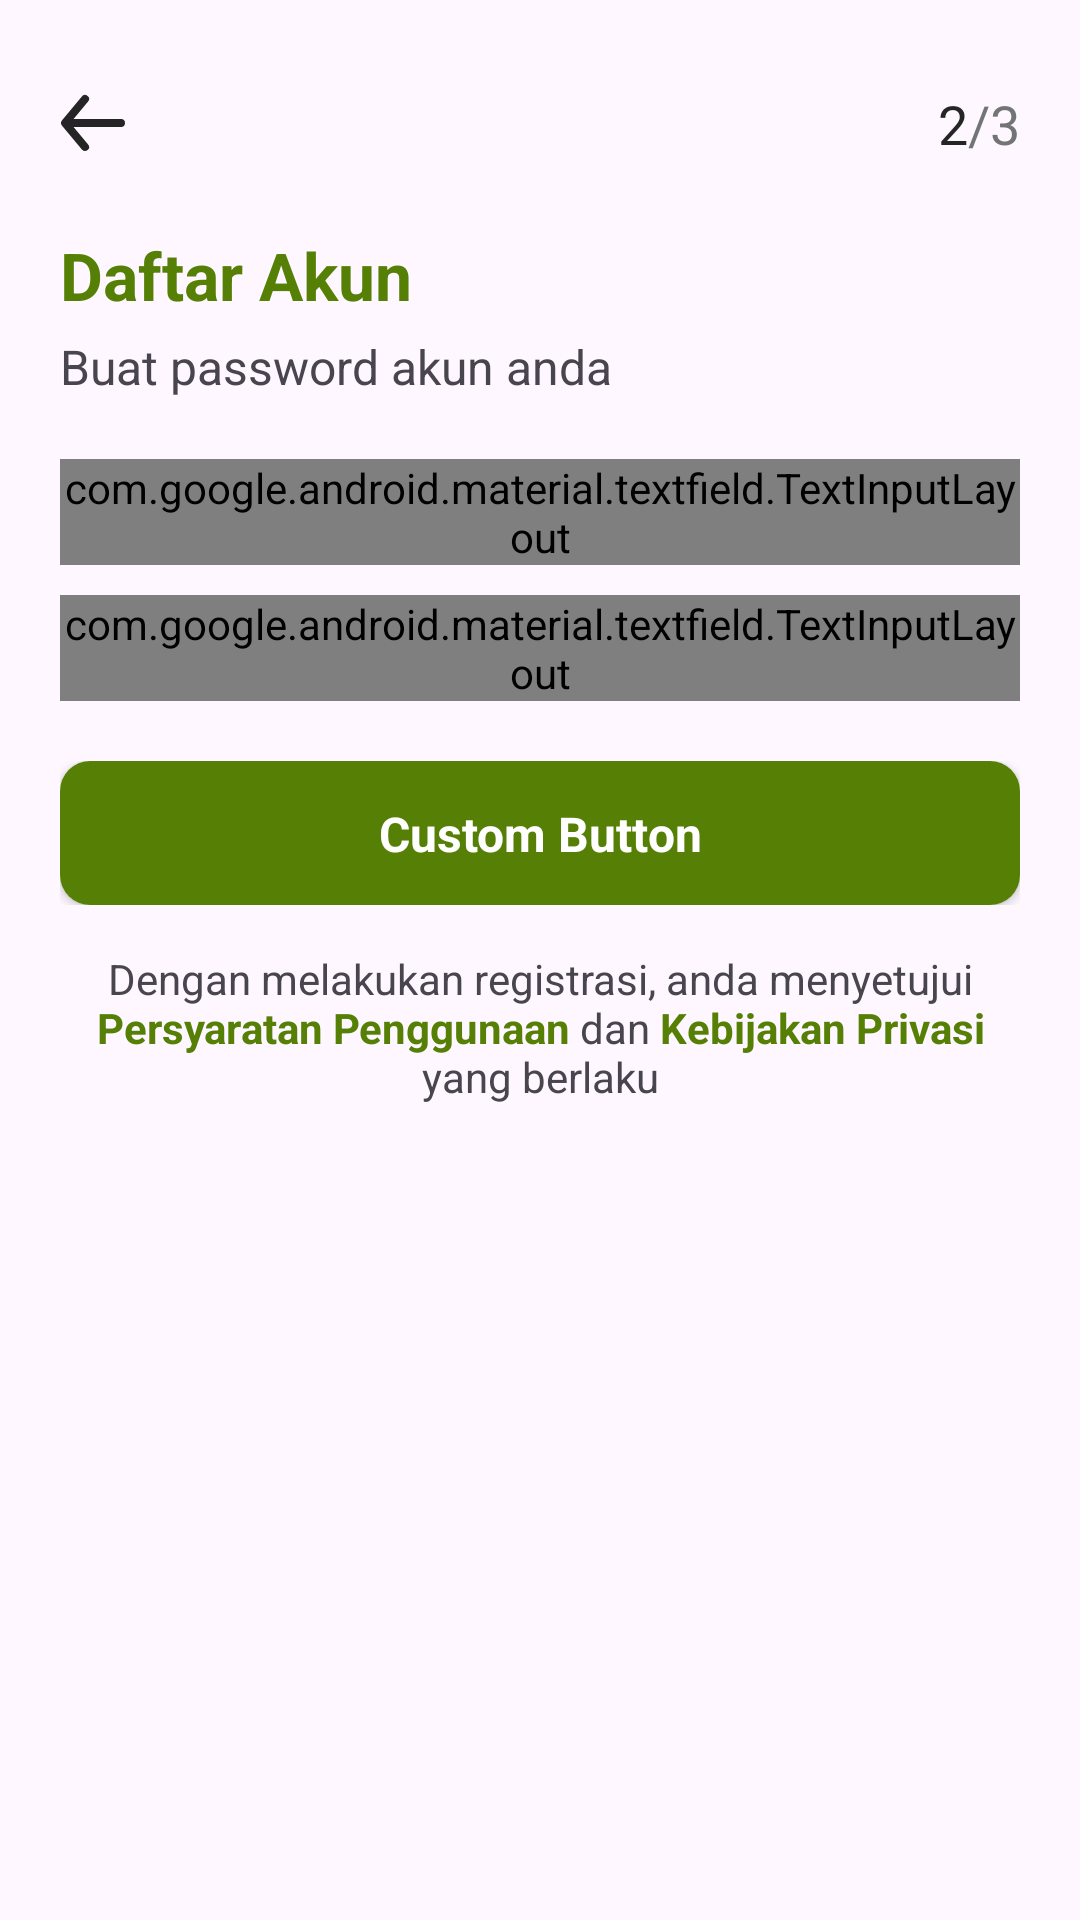

Icon bounding boxes for this 1080w x 1920h phone screenshot, format detection(x1, y1, x2, y2):
back: detection(61, 94, 125, 151)
